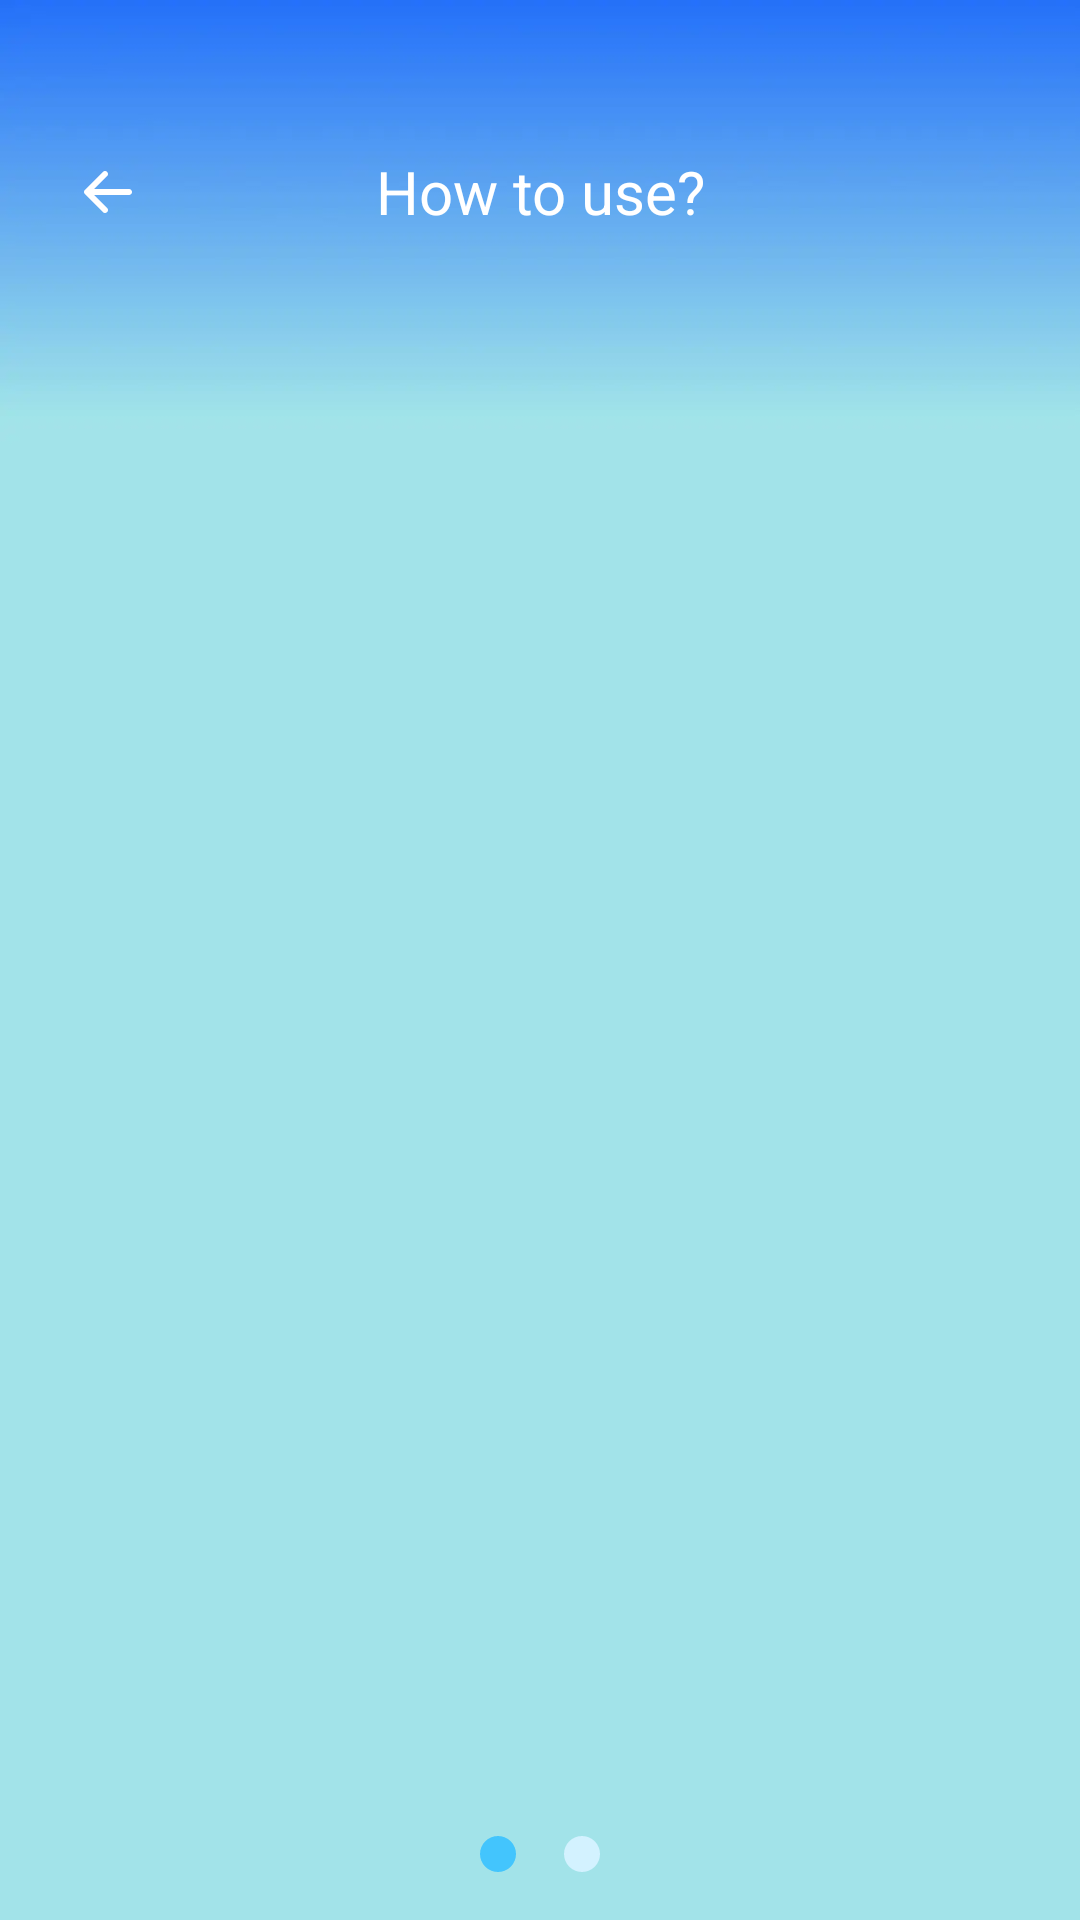

Screen size 1080 x 1920. Icon name, then its center in pixels as (x=x, y=y):
back: (x=108, y=192)
dot select: (x=498, y=1854)
